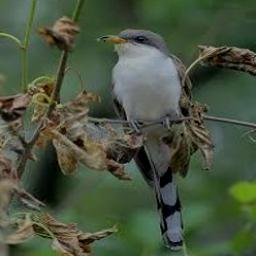Cuckoo: (96, 28, 191, 251)
